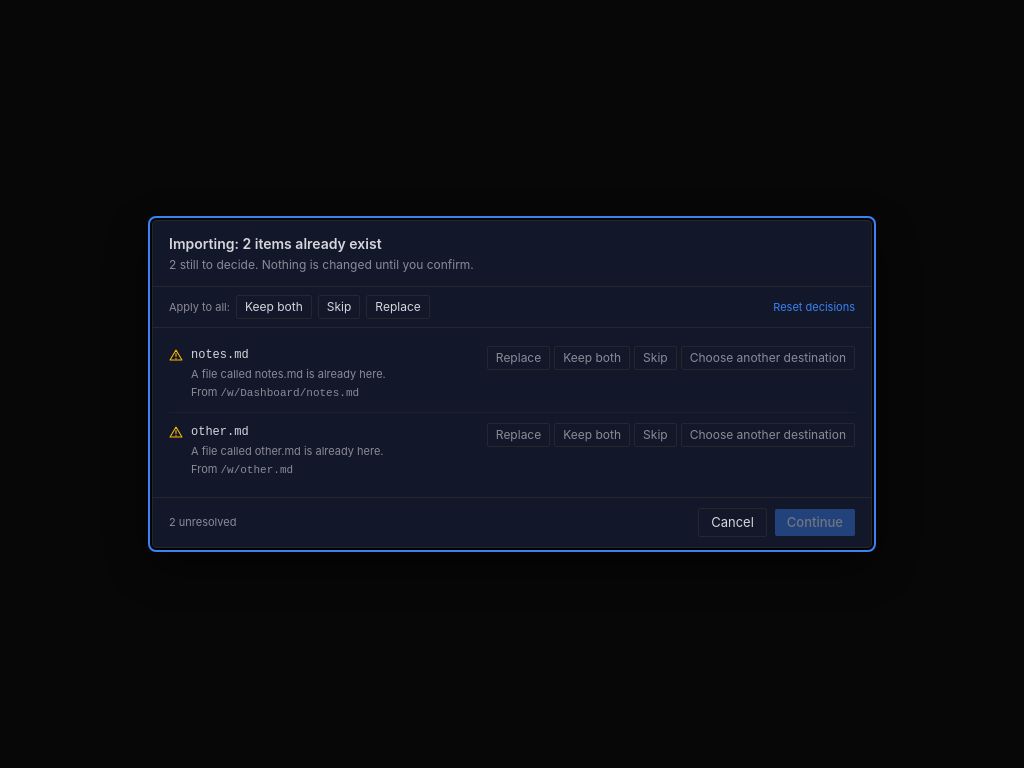
Test: previewing before confirming › shows the resulting final path as the destination is typed
Click the button with aria-label "Choose another destination for notes.md" at (768, 358), box [681,346,855,370]
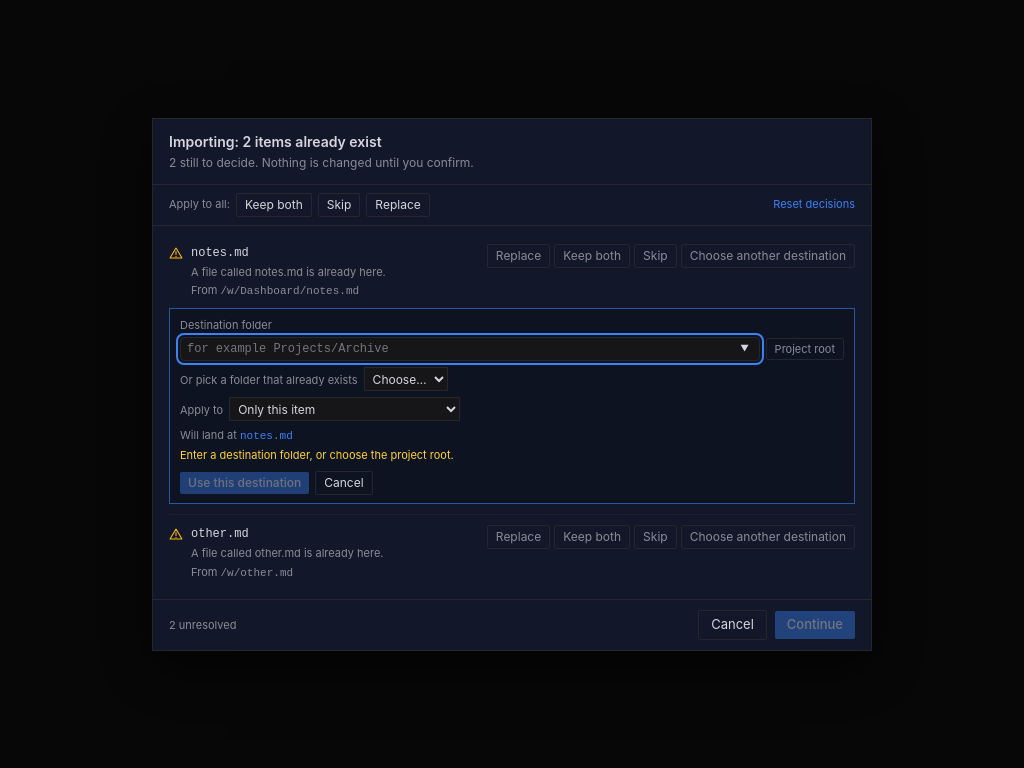
Type "archive" into the field labelled "Destination folder" at (470, 349), box [180,337,760,361]
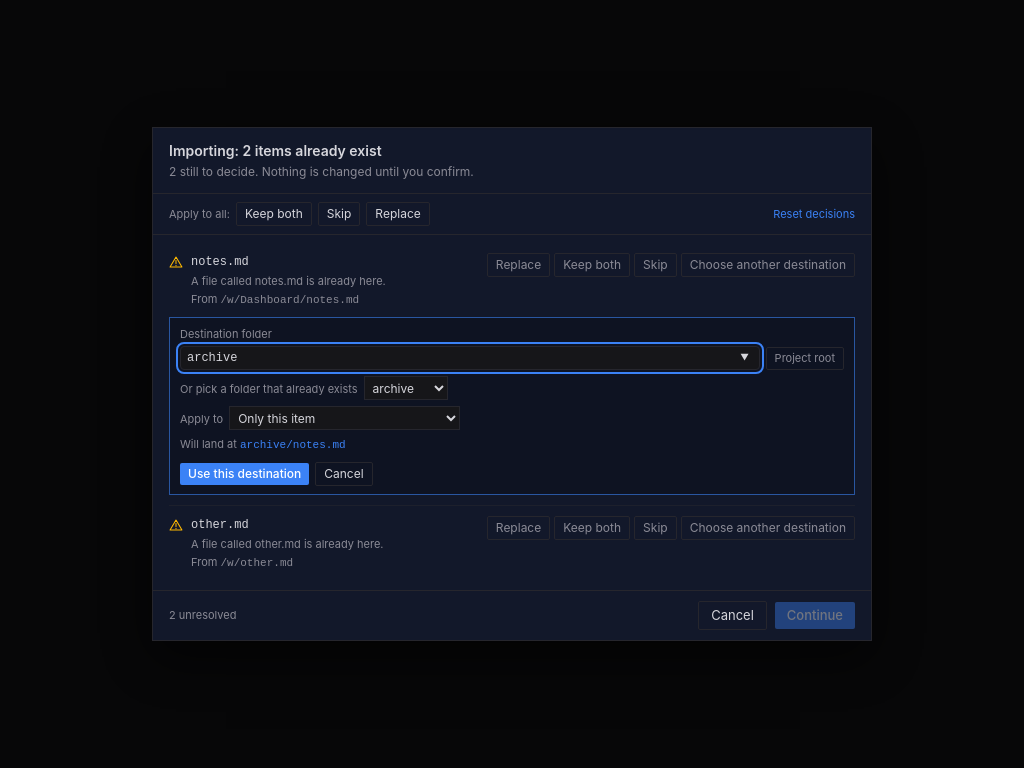
Expected: the text "archive/notes.md" is shown, [240,439,346,451]
